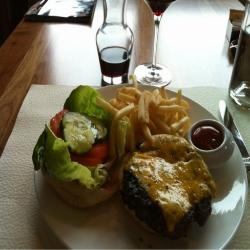burger: (47, 120, 212, 239)
fries: (100, 89, 185, 131)
ketchup: (186, 119, 228, 154)
